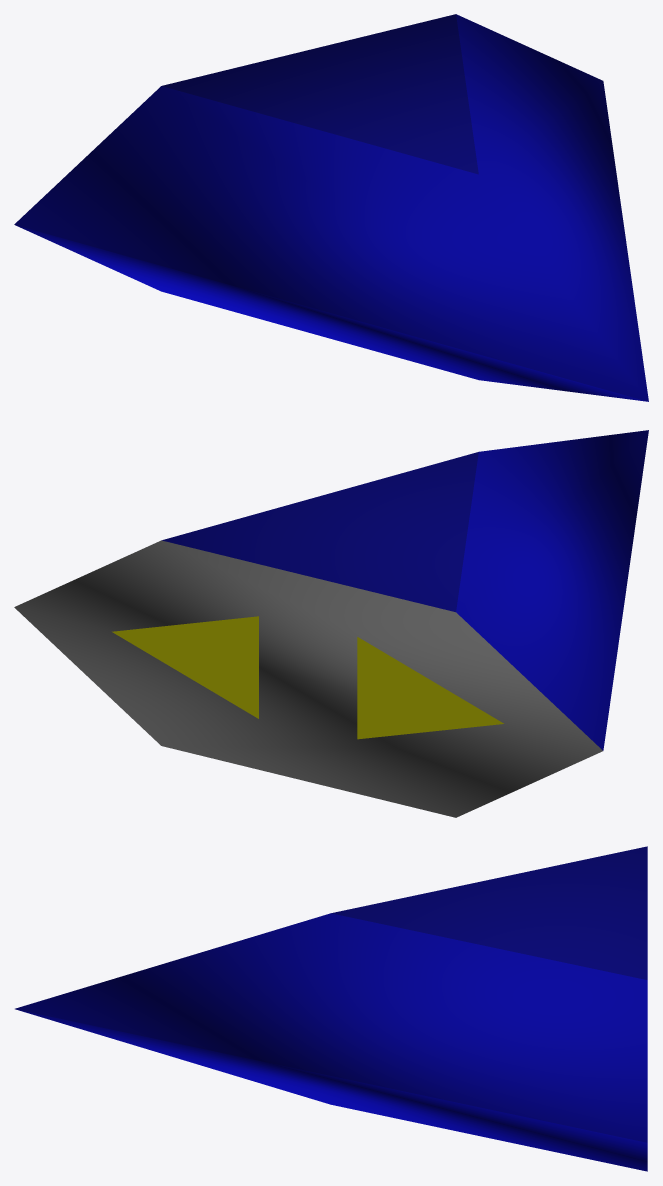
Rendered from viper.fbx.
The picture shows the model from 3 angles, top to bottom: view 1: azimuth 30°, elevation 25°; view 2: azimuth 150°, elevation 25°; view 3: azimuth 270°, elevation 25°; orthographic projection. The views are drawn at different scales.
Parts seen in each view (by area): view 1: viper_None_001; view 2: viper_None_001; view 3: viper_None_001.
Part boxes in pixels (<box>): viper_None_001: <box>14,14,648,401</box>; viper_None_001: <box>14,430,648,817</box>; viper_None_001: <box>15,846,647,1171</box>.
Bounding box in the file's own units: 2.4 × 0.8 × 2.41.
